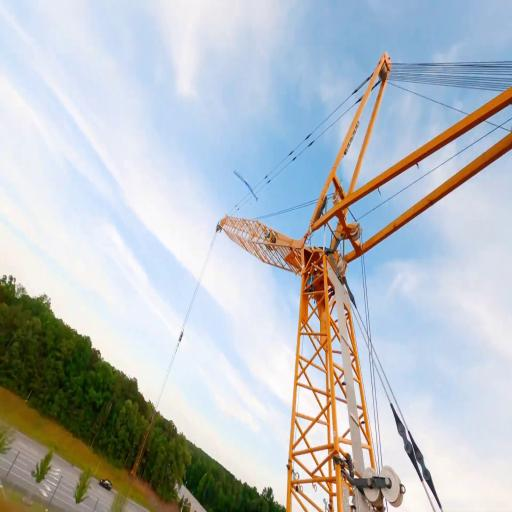uav: (232, 170, 259, 203)
